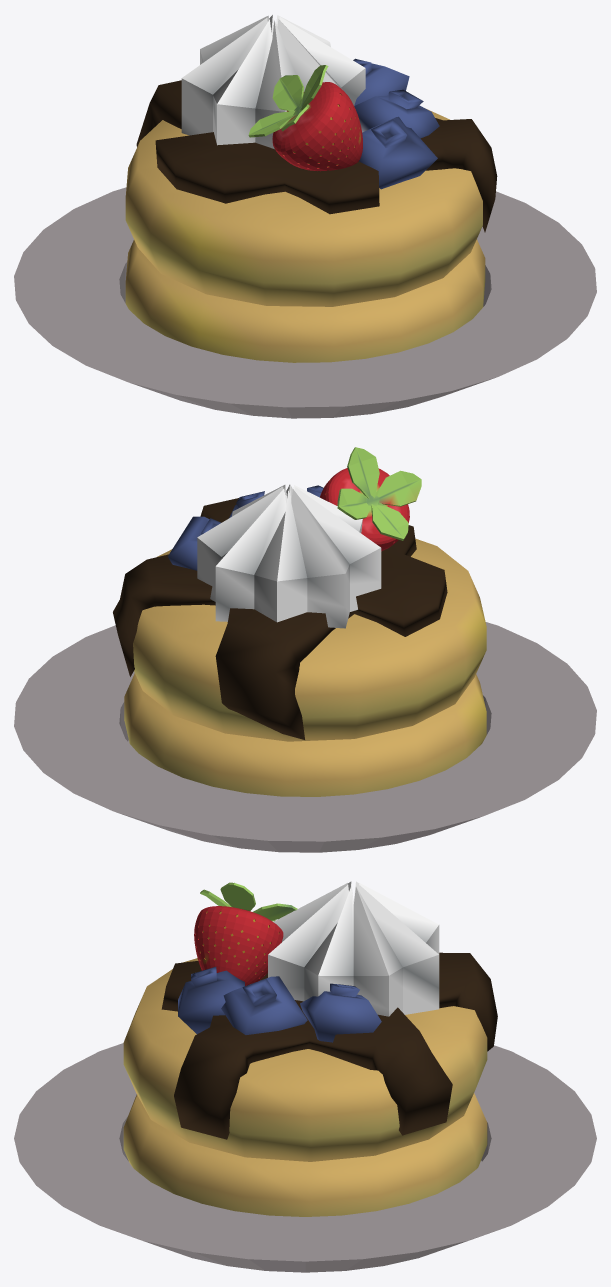
The model's file is pancakes.glb.
3 renders of one model, top to bottom at view 1: azimuth 30°, elevation 25°; view 2: azimuth 150°, elevation 25°; view 3: azimuth 270°, elevation 25°, orthographic.
Visible parts, largest first — view 1: Circle, p1.001, p1, p2, cream, ryan ma fraise sucrée, Cube.002; view 2: Circle, p1.001, p1, p2, cream, ryan ma fraise sucrée, Cube.002; view 3: Circle, p1.001, p1, p2, cream, Cube.002, ryan ma fraise sucrée.
Part boxes in pixels (box(x1,y1,x2,y2)): Circle: box(14, 187, 596, 418); p1.001: box(125, 109, 482, 306); p1: box(125, 239, 485, 362); p2: box(136, 80, 497, 232); cream: box(181, 15, 365, 149); ryan ma fraise sucrée: box(248, 65, 362, 171); Cube.002: box(353, 58, 439, 189); Circle: box(14, 622, 596, 852); p1.001: box(133, 538, 486, 741); p1: box(124, 673, 486, 796); p2: box(113, 498, 447, 739); cream: box(197, 484, 381, 628); ryan ma fraise sucrée: box(320, 447, 421, 551); Cube.002: box(168, 485, 323, 570); Circle: box(14, 1043, 596, 1272); p1.001: box(123, 958, 487, 1161); p1: box(123, 1093, 487, 1216); p2: box(161, 952, 497, 1139); cream: box(268, 881, 439, 1016); Cube.002: box(178, 966, 381, 1042); ryan ma fraise sucrée: box(194, 882, 297, 985).
Bounding box in the file's own units: 3.44 × 1.94 × 3.44.
